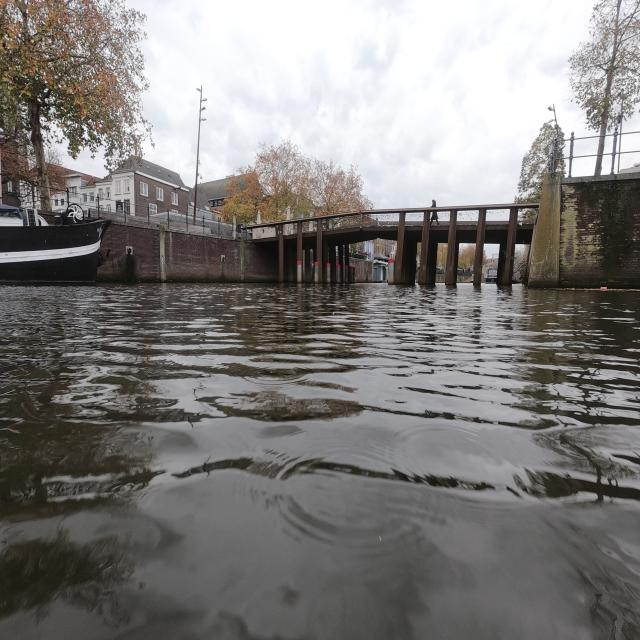boat: (0, 239, 101, 282)
sky: (127, 0, 594, 206)
tree: (222, 139, 371, 224)
wall: (527, 171, 640, 288), (97, 221, 243, 282), (243, 241, 278, 282)
water: (0, 282, 640, 640)
